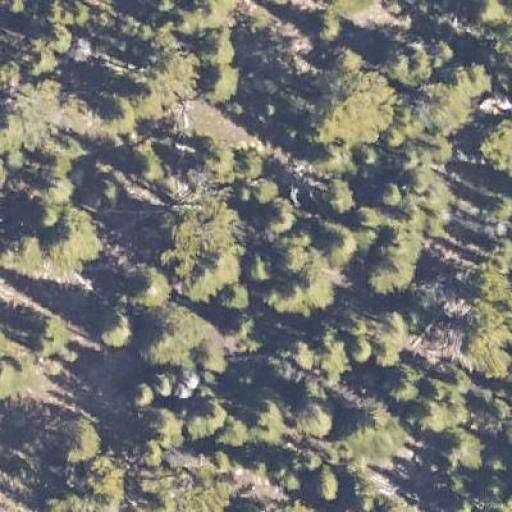tree-top: (300, 52, 396, 153), (270, 236, 346, 314), (359, 219, 433, 299), (137, 301, 214, 371), (42, 204, 107, 267), (0, 429, 54, 503), (457, 301, 512, 372), (414, 376, 470, 438), (28, 305, 88, 361), (160, 207, 228, 252), (54, 411, 108, 466), (136, 402, 190, 454), (169, 467, 230, 512), (438, 427, 493, 475), (124, 261, 176, 311), (354, 405, 407, 450), (3, 228, 50, 278), (475, 111, 512, 174), (292, 394, 340, 441), (249, 395, 293, 445), (200, 58, 244, 105), (93, 305, 137, 351), (316, 330, 358, 378), (197, 25, 240, 68), (352, 474, 400, 512), (320, 174, 363, 216), (469, 263, 511, 300), (34, 171, 75, 203), (310, 7, 344, 45), (311, 464, 344, 503), (0, 350, 30, 392), (24, 39, 58, 76), (202, 140, 232, 180), (215, 414, 249, 449), (130, 74, 163, 110), (49, 0, 89, 29), (281, 337, 315, 371), (128, 375, 160, 411), (197, 1, 235, 31), (146, 46, 184, 76), (46, 20, 80, 53), (196, 253, 228, 288), (252, 174, 286, 206), (102, 97, 138, 127), (446, 69, 490, 93), (221, 282, 251, 317), (402, 171, 434, 203), (149, 367, 179, 400), (244, 256, 275, 286), (476, 0, 510, 27), (0, 56, 24, 94), (406, 52, 435, 82), (274, 463, 304, 492), (134, 156, 165, 184), (238, 153, 266, 183), (132, 470, 164, 496), (388, 48, 412, 82), (0, 146, 29, 174), (375, 338, 404, 366), (383, 374, 412, 402), (390, 112, 416, 141), (41, 151, 72, 175), (427, 134, 452, 163), (351, 336, 375, 366), (354, 202, 377, 233), (377, 184, 402, 210), (492, 194, 512, 224), (359, 146, 379, 168), (400, 151, 420, 172), (152, 0, 178, 14), (8, 0, 29, 16)
